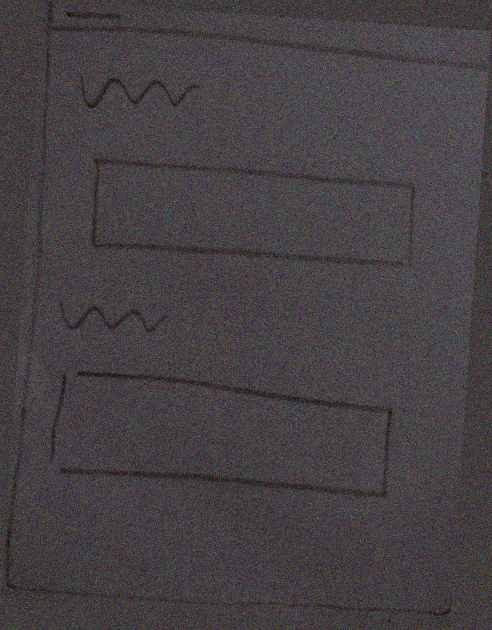text: (68, 61, 204, 123), (45, 287, 180, 349)
text_input: (43, 361, 402, 505), (81, 147, 423, 280)
